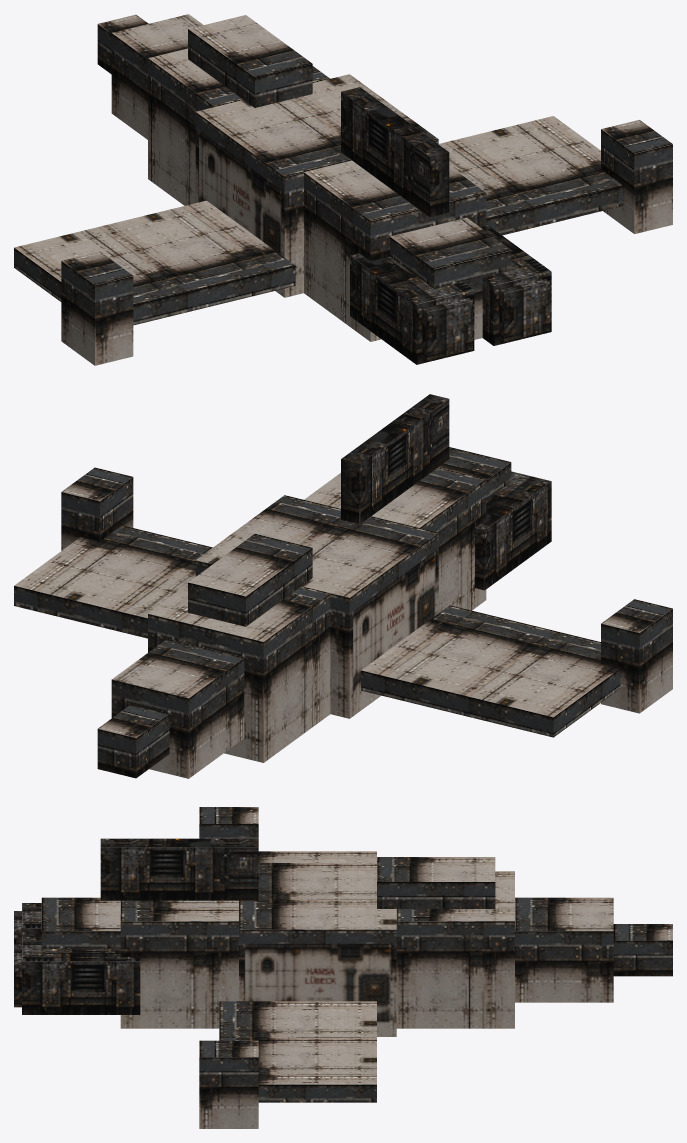
Rendered from Spacecraft_1.glb.
3 views of the same model, one above another, from view 1: azimuth 30°, elevation 25°; view 2: azimuth 150°, elevation 25°; view 3: azimuth 270°, elevation 25° (orthographic). The views are drawn at different scales.
Visible parts, largest first — view 1: fuselage_m, wing_left, wing_right, fuselage_r, spine_fin, fuselage_f, cockpit_glass, wingtip_left, engine_left, tail, wingtip_right, nose_mid (+4 smaller); view 2: wing_left, fuselage_m, fuselage_f, wing_right, nose_mid, fuselage_r, spine_fin, cockpit_glass, wingtip_left, engine_left, wingtip_right, nose_tip (+1 smaller); view 3: fuselage_m, fuselage_f, wing_right, fuselage_r, nose_mid, spine_fin, engine_right, cockpit_glass, wingtip_right, tail, nose_tip, wingtip_left (+3 smaller).
Part boxes in pixels (x1,y1,x2,y2): fuselage_m: (195,74,438,297); wing_left: (14,200,295,325); wing_right: (438,116,623,235); fuselage_r: (304,160,486,341); spine_fin: (341,87,449,217); fuselage_f: (148,48,329,205); cockpit_glass: (188,15,312,107); wingtip_left: (61,251,133,365); engine_left: (350,253,474,364); tail: (390,217,511,339); wingtip_right: (601,120,672,233); nose_mid: (111,14,203,139); wing_left: (361,605,620,737); fuselage_m: (195,495,438,718); fuselage_f: (148,585,330,762); wing_right: (14,525,212,638); nose_mid: (111,639,244,778); fuselage_r: (304,467,486,612); spine_fin: (341,394,449,524); cockpit_glass: (188,533,312,626); wingtip_left: (601,599,672,713); engine_left: (475,471,551,590); wingtip_right: (61,467,133,550); nose_tip: (97,704,169,778); fuselage_m: (239,863,396,1036); fuselage_f: (396,871,514,1028); wing_right: (219,1001,376,1102); fuselage_r: (120,900,238,1028); nose_mid: (515,897,613,1002); spine_fin: (100,838,258,900); engine_right: (22,936,140,1014); cockpit_glass: (377,857,495,908); wingtip_right: (199,1040,258,1128); tail: (41,897,120,948); nose_tip: (613,924,672,976); wingtip_left: (199,807,258,838).
Size of the model in its own units: 30 by 9 by 33.4.
1 material, 1 textured.
